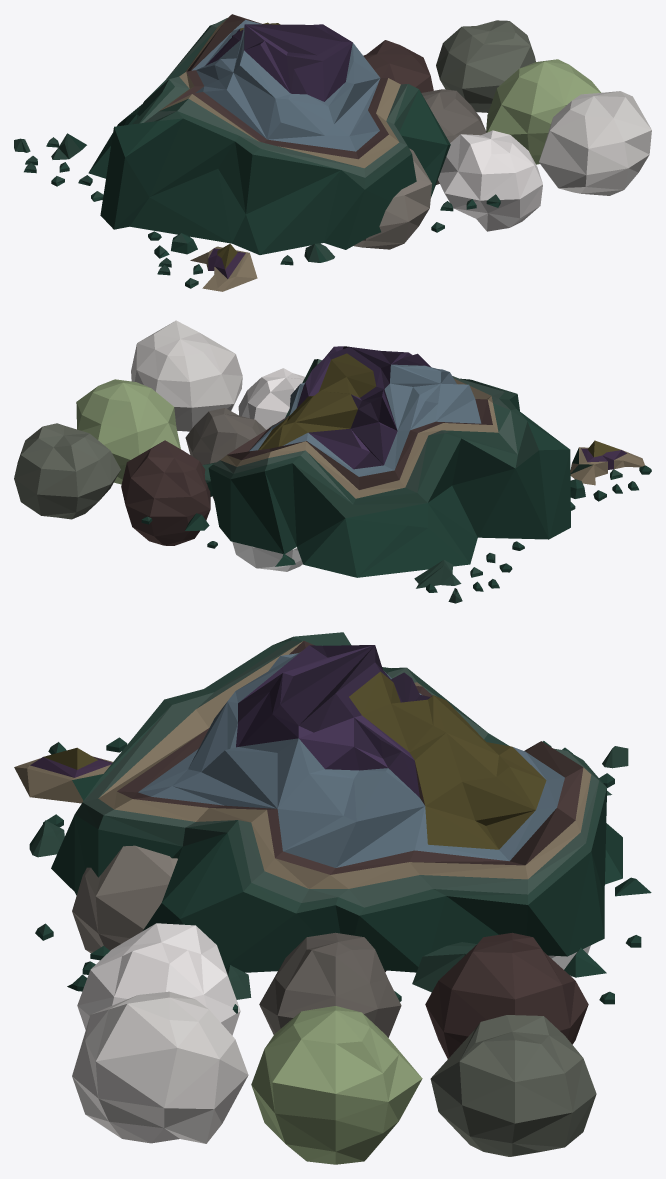
The model's file is shooting-stars.gltf.
The picture shows the model from 3 angles, top to bottom: view 1: azimuth 30°, elevation 25°; view 2: azimuth 150°, elevation 25°; view 3: azimuth 270°, elevation 25°; orthographic projection. The views are drawn at different scales.
Bounding box in the file's own units: 341 × 127 × 242.
1 material, 1 textured.
